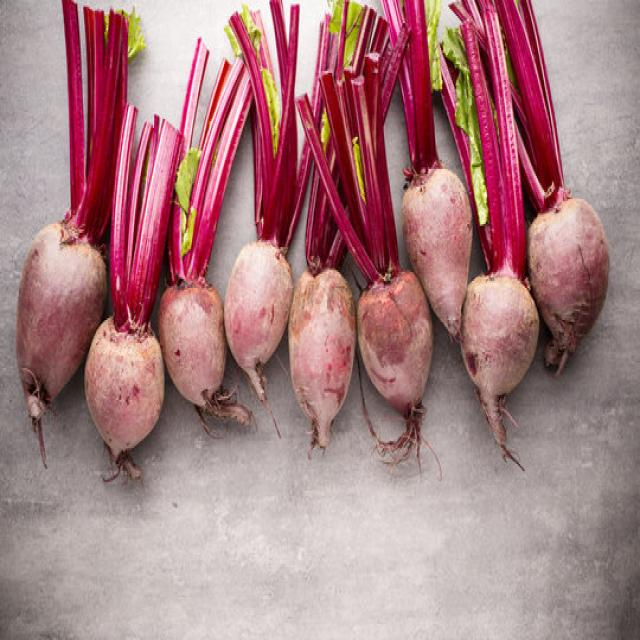Beetroot: (14, 0, 132, 468), (442, 0, 541, 471), (493, 0, 609, 377), (221, 0, 313, 437), (83, 105, 185, 485), (156, 52, 256, 439), (379, 0, 473, 343), (287, 91, 357, 457)
